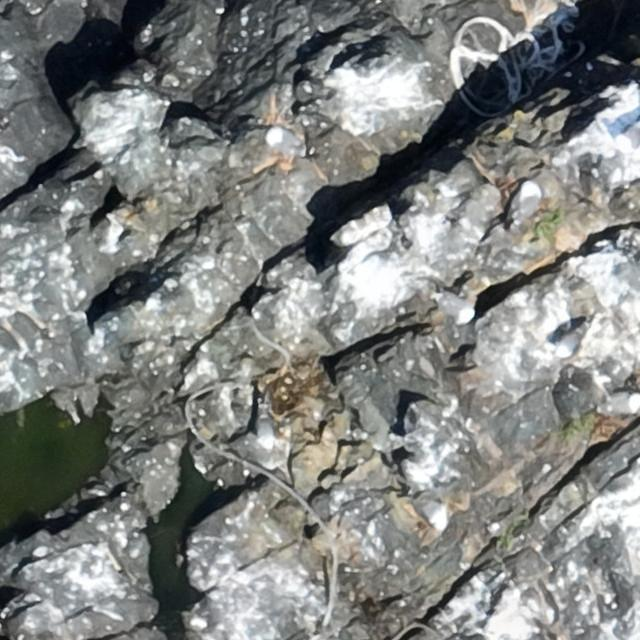umineko: (408, 485, 450, 534), (502, 180, 542, 229), (426, 281, 474, 320), (265, 125, 313, 159), (252, 394, 274, 448), (556, 328, 584, 356)
